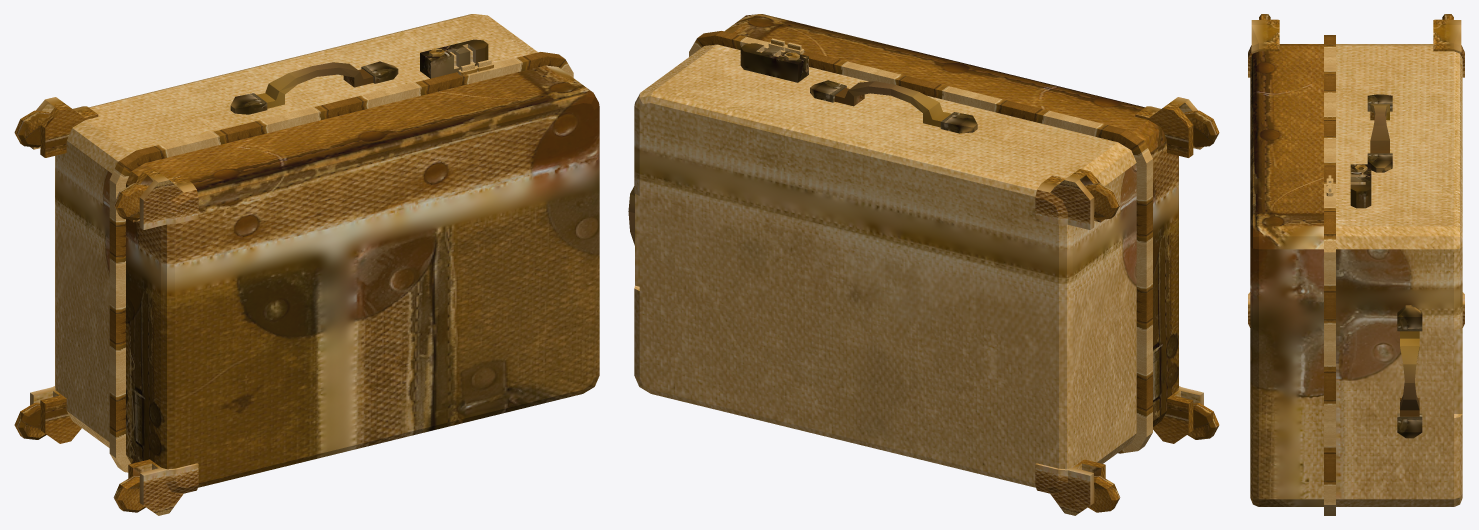
Rendered from suitcase.obj.
The picture shows the model from 3 angles, left to right: view 1: azimuth 30°, elevation 25°; view 2: azimuth 150°, elevation 25°; view 3: azimuth 270°, elevation 25°; orthographic projection. The views are drawn at different scales.
Size of the model in its own units: 0.7 by 0.45 by 0.28.
